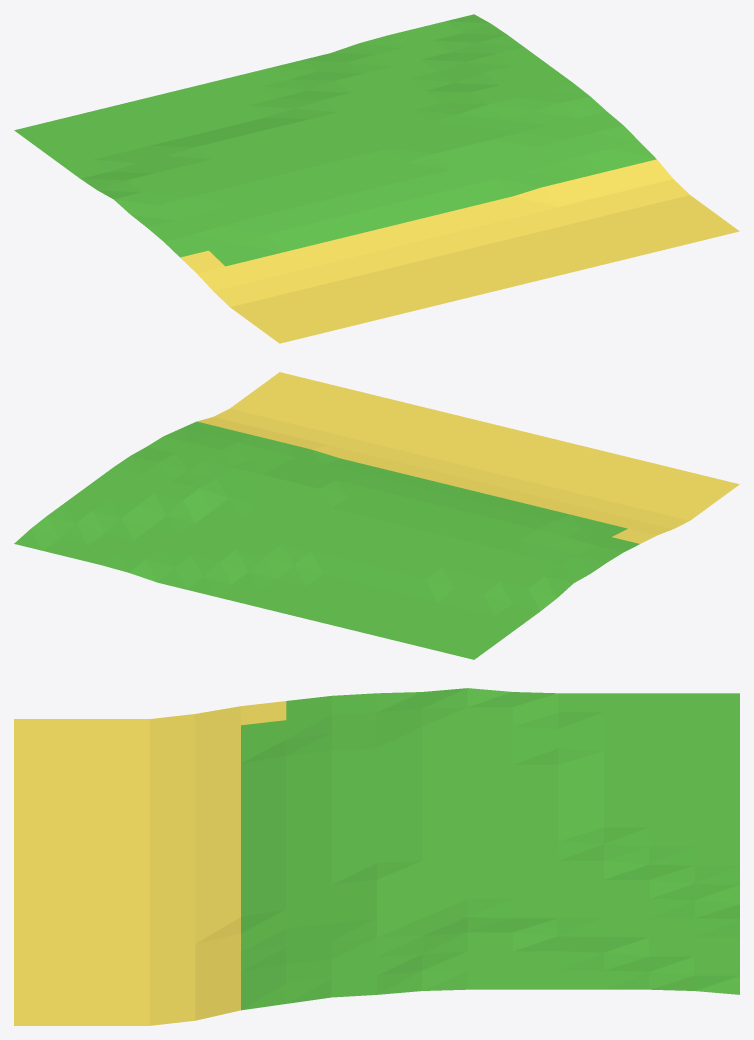
The model's file is natura_world_085.gltf.
3 renders of one model, top to bottom at view 1: azimuth 30°, elevation 25°; view 2: azimuth 150°, elevation 25°; view 3: azimuth 270°, elevation 25°, orthographic. The views are drawn at different scales.
Visible parts, largest first — view 1: natura_world.085; view 2: natura_world.085; view 3: natura_world.085.
Boxes of the visible parts, left/top/right/bottom form: natura_world.085: left=14, top=14, right=739, bottom=343; natura_world.085: left=14, top=372, right=739, bottom=659; natura_world.085: left=14, top=688, right=739, bottom=1025.
Bounding box in the file's own units: 0.125 × 0.00686 × 0.125.
